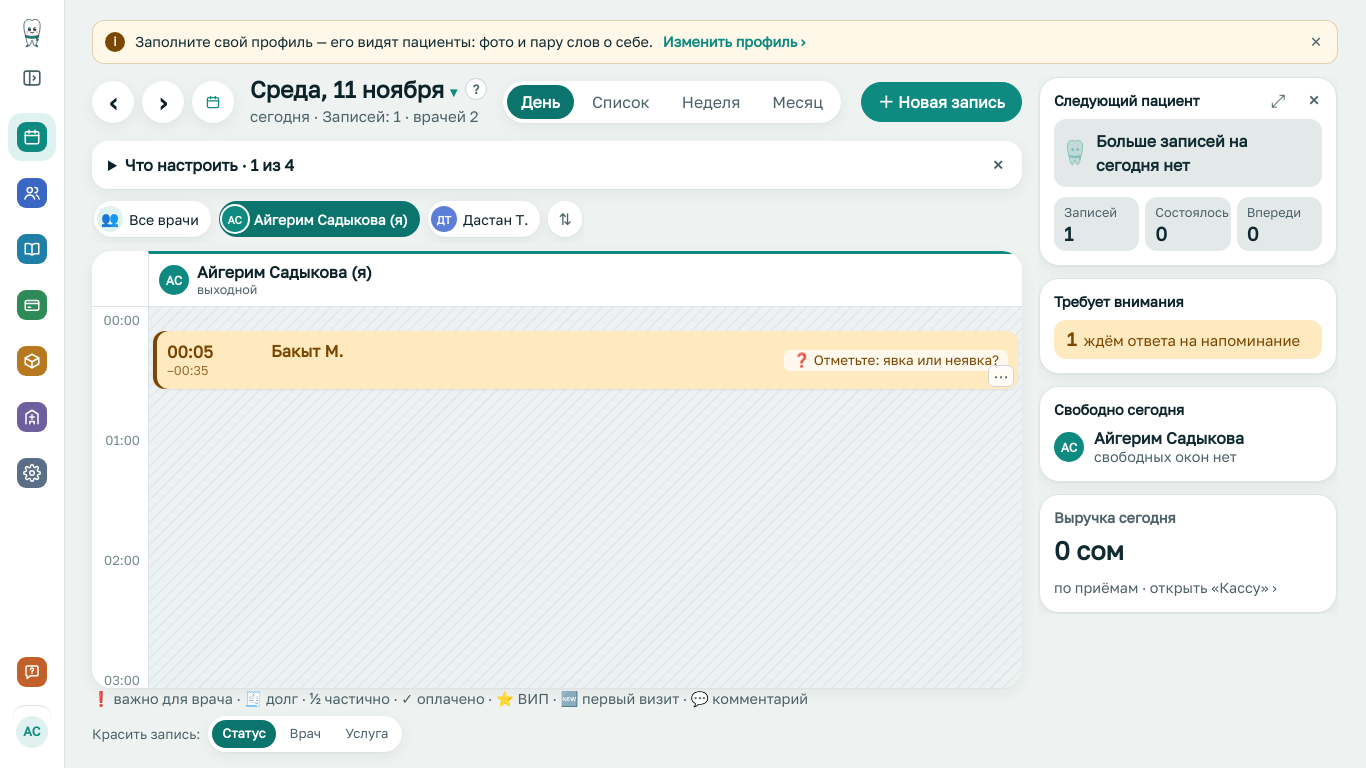
Test case: расход техника виден уже во время приёма, не только после «состоялся»
What coordinates should you click on to do the following:
click the button "00:05 –00:35 Бакыт М. ❓ Отметьте: явка или неявка?"
I would click on:
 (190, 352)
Its box is [153,332,1018,390].
(page scrolled)
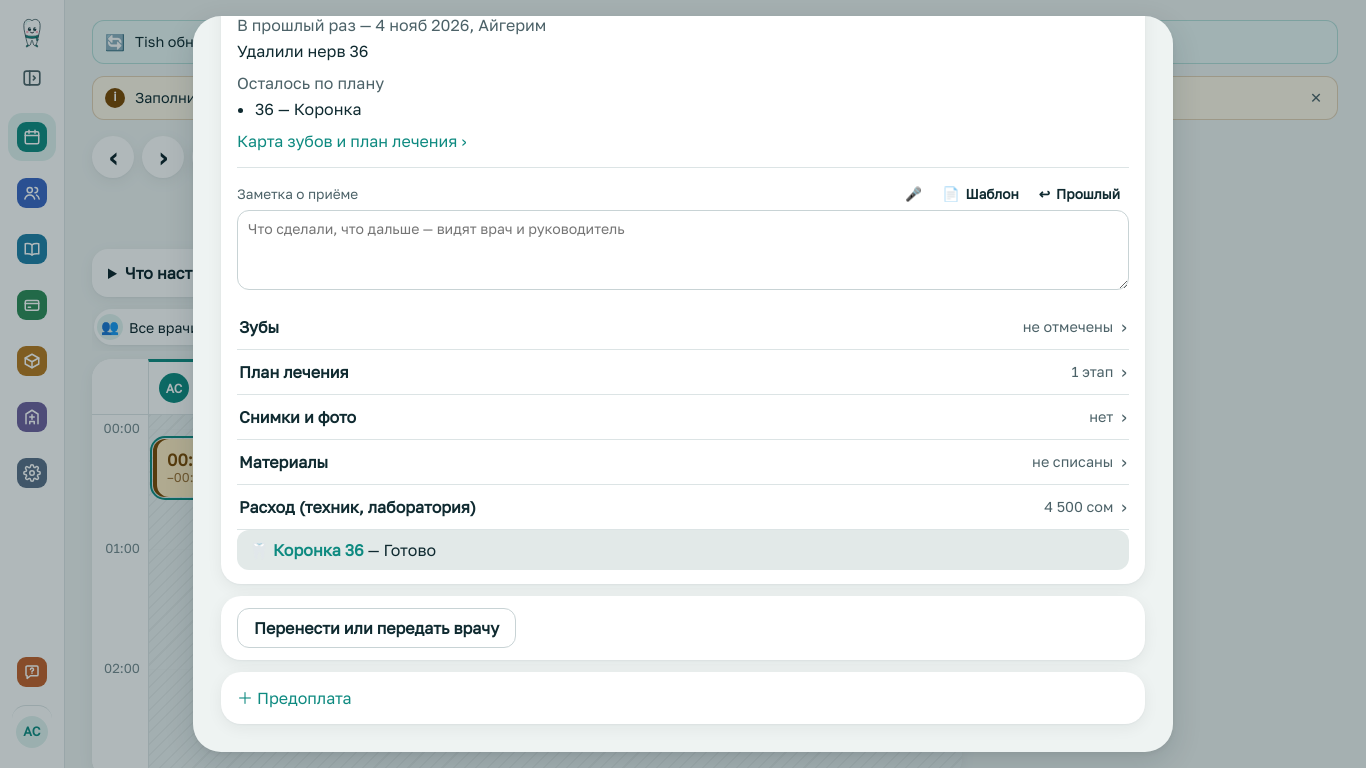
Expected: the element named "Материалы на приёме" is shown, [237,440,1129,485]
Expected: the text "4 500 сом" is shown, [1044,496,1113,517]
